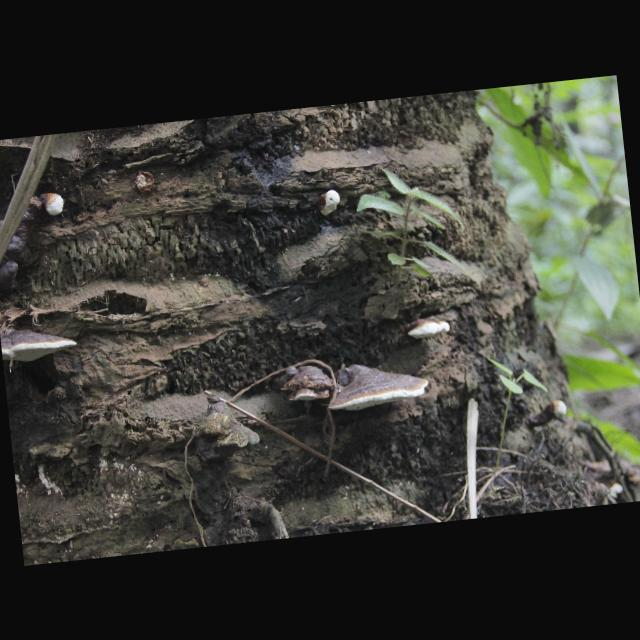ganoderma: (325, 358, 432, 415), (1, 196, 48, 293), (1, 318, 79, 365), (278, 362, 339, 405), (407, 317, 452, 340)
primordium: (40, 192, 66, 217), (319, 190, 343, 217), (548, 400, 570, 422)
